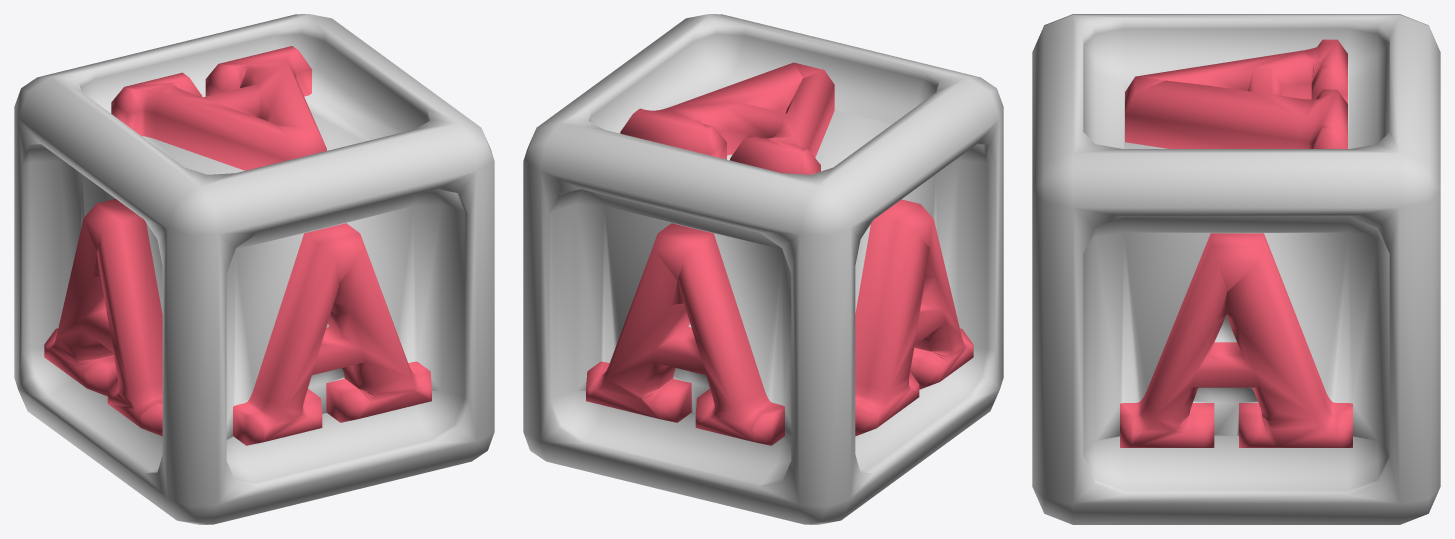
The picture shows the model from 3 angles, left to right: view 1: azimuth 30°, elevation 25°; view 2: azimuth 150°, elevation 25°; view 3: azimuth 270°, elevation 25°; orthographic projection. The views are drawn at different scales.
Visible parts, largest first — view 1: obj_0; view 2: obj_0; view 3: obj_0.
Part boxes in pixels (x1=…): obj_0: x1=14, y1=14, x2=494, y2=524; obj_0: x1=523, y1=14, x2=1003, y2=524; obj_0: x1=1032, y1=14, x2=1440, y2=524.
Size of the model in its own units: 100 by 100 by 100.
